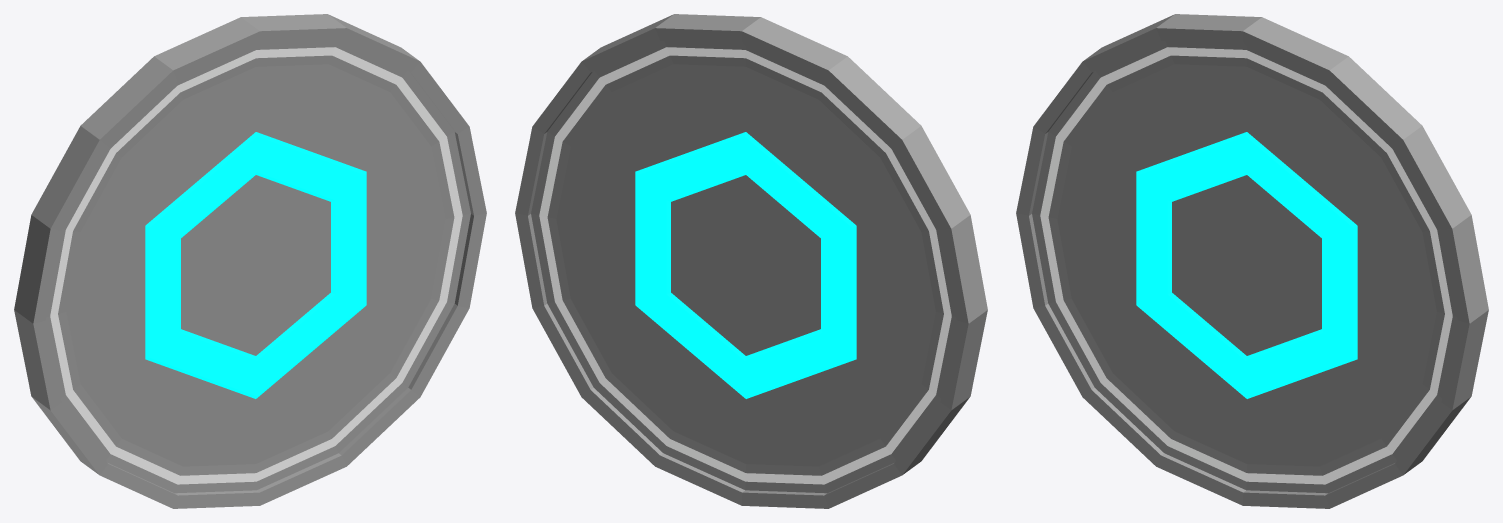
The model's file is coin_silver.glb.
The picture shows the model from 3 angles, left to right: view 1: azimuth 30°, elevation 25°; view 2: azimuth 150°, elevation 25°; view 3: azimuth 330°, elevation 25°; orthographic projection.
Visible parts, largest first — view 1: Coin; view 2: Coin; view 3: Coin.
Part boxes in pixels (x1,y1,x2,y2): Coin: (14, 14, 486, 508); Coin: (515, 14, 987, 508); Coin: (1016, 14, 1488, 508).
Bounding box in the file's own units: 2.12 × 2.12 × 0.1558.
